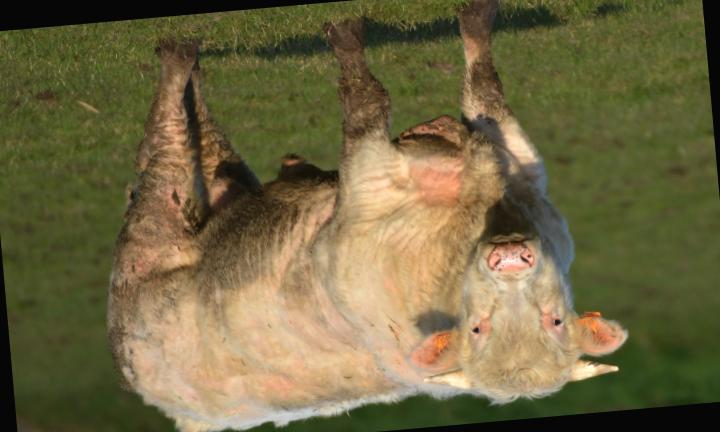Charolais: (108, 0, 627, 432)
